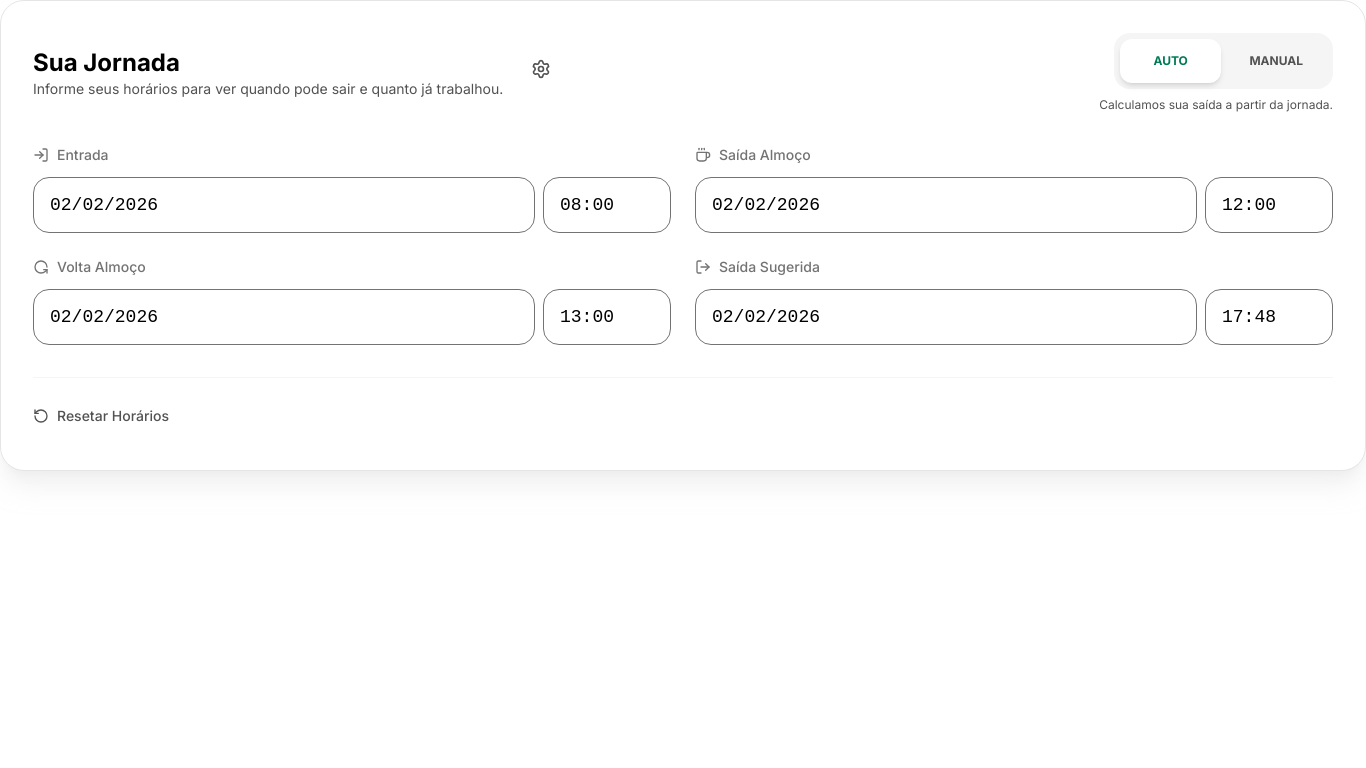
Scenario: JourneyForm › keeps the times when the reset is dismissed
This screenshot has width=1366, height=768.
Click the button "Resetar Horários" at {"x": 101, "y": 416}, box top-left (25, 394), bottom-right (177, 438)
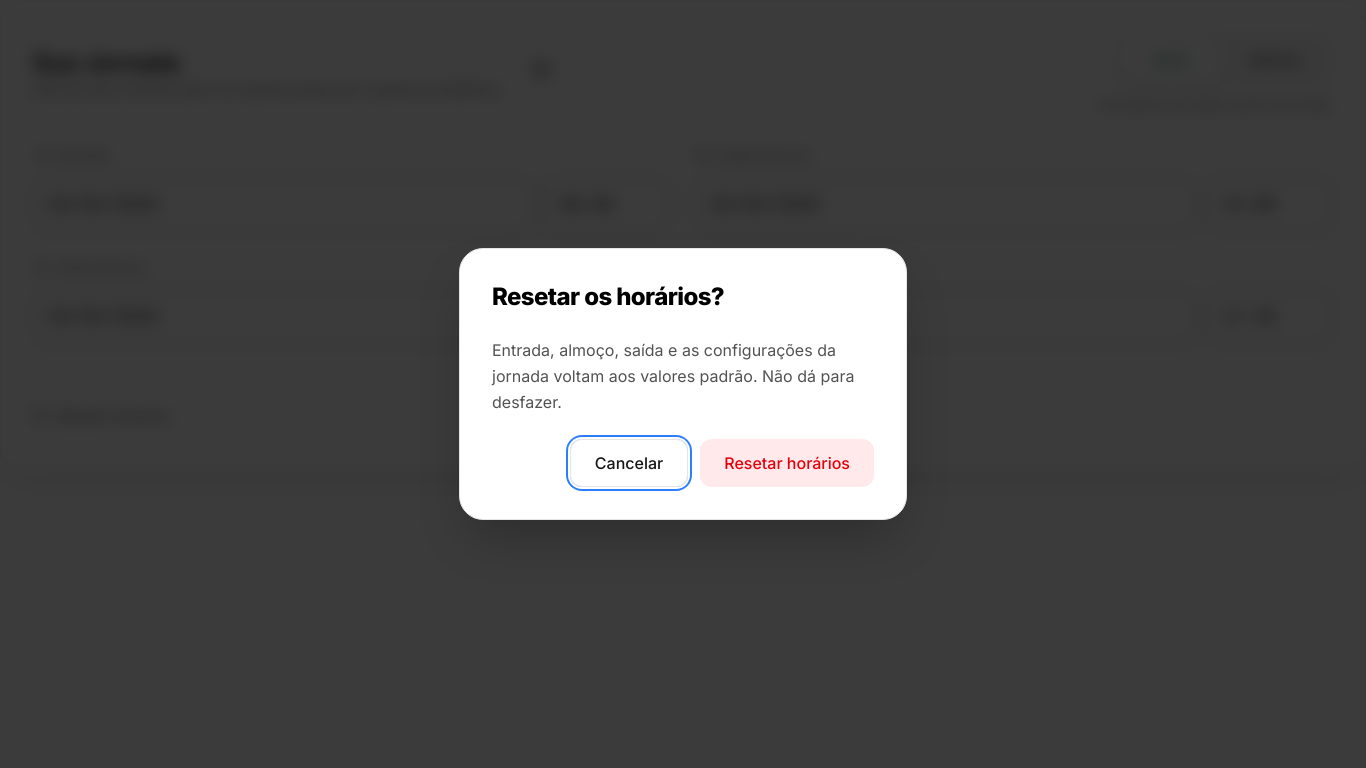
Click the button "Cancelar" at {"x": 629, "y": 463}, box top-left (570, 439), bottom-right (688, 487)
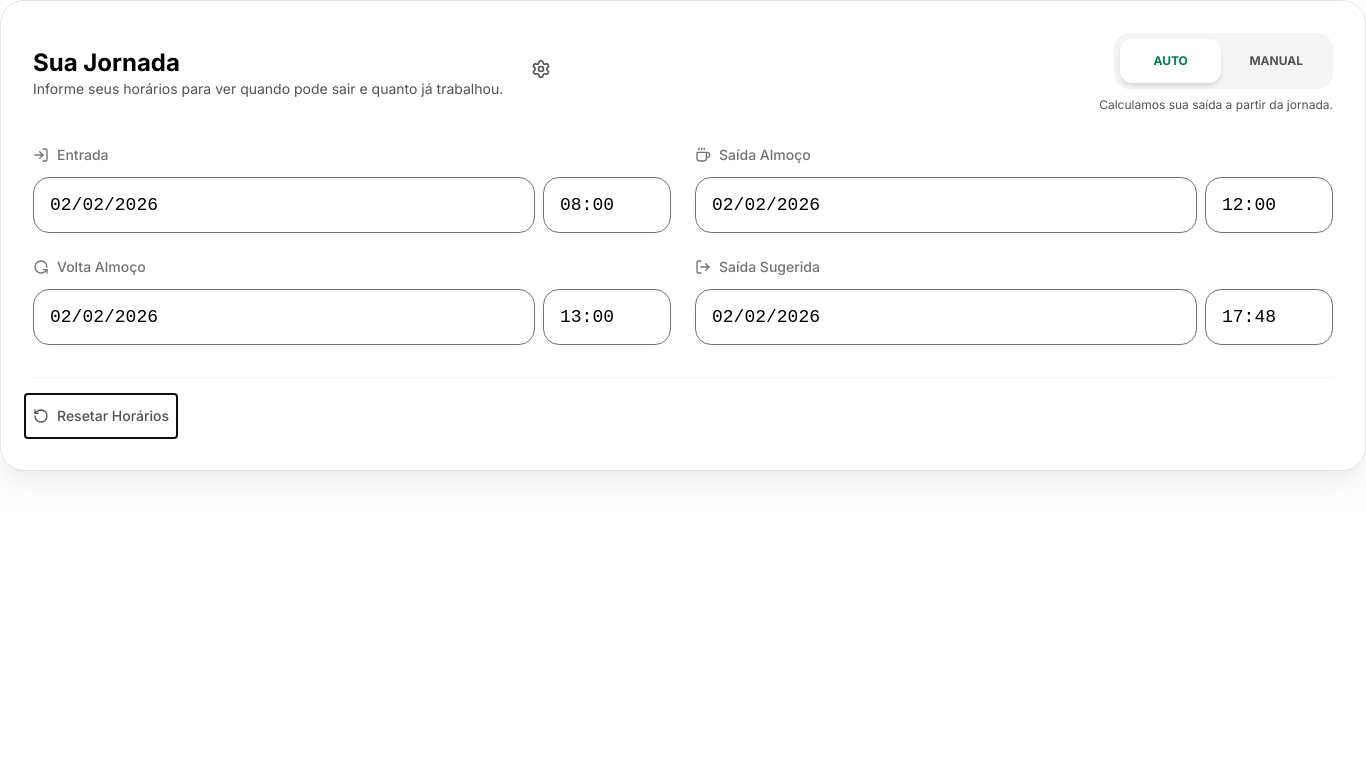
expect the heading "Resetar os horários?" is gone: met
